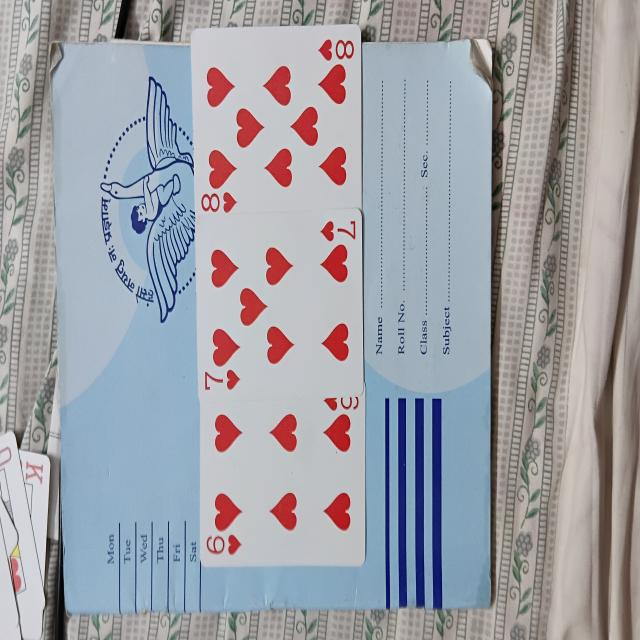7H: (198, 205, 363, 407)
